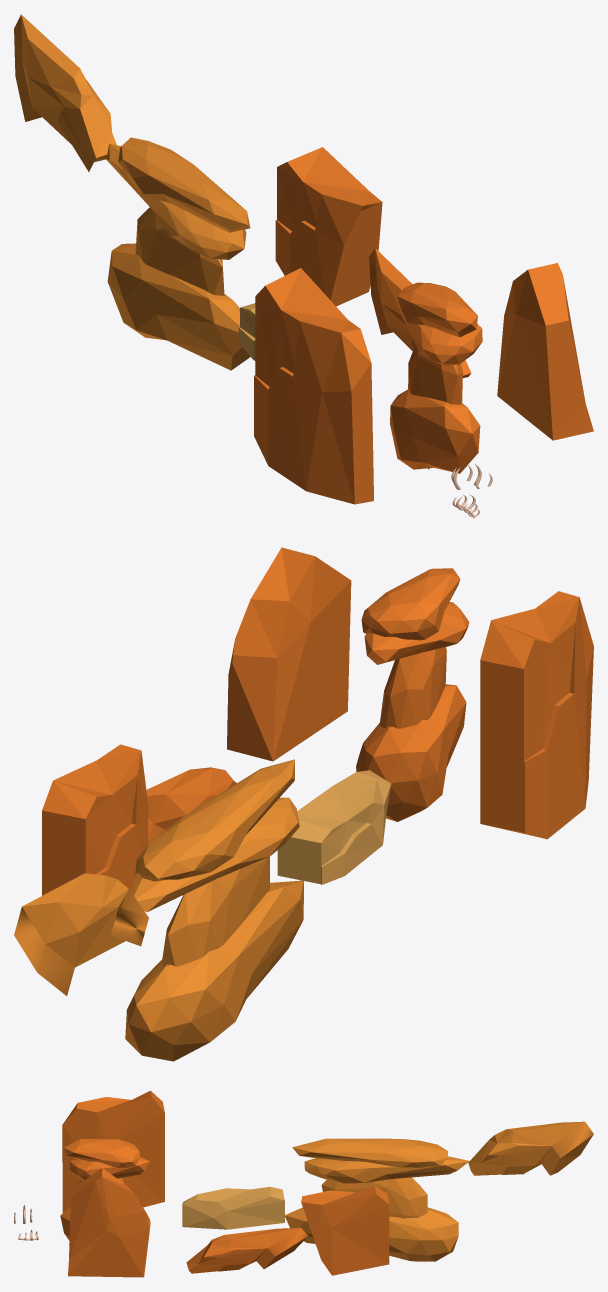
File: muros y paredes rocas y caminos  .fbx
3 views of the same model, one above another, from view 1: azimuth 30°, elevation 25°; view 2: azimuth 150°, elevation 25°; view 3: azimuth 270°, elevation 25° (orthographic). The views are drawn at different scales.
Visible parts, largest first — view 1: Rocas.002, piedra grande.001, piedra grande, Rocas.005, Rocas.003, Rocas.006, Rocas.008, Rocas.001; view 2: piedra grande.001, Rocas.002, Rocas.003, piedra grande, Rocas.005, Rocas.006, Rocas.001, Rocas.008; view 3: piedra grande.001, Rocas.003, Rocas.002, Rocas.005, Rocas.006, Rocas.001, Rocas.008, piedra grande.
Boxes of the visible parts, x1,y1,x2,y2 form: Rocas.002: (254,268,373,504); piedra grande.001: (106,137,250,370); piedra grande: (390,282,482,473); Rocas.005: (275,147,382,306); Rocas.003: (497,263,593,440); Rocas.006: (14,14,116,171); Rocas.008: (369,248,471,378); Rocas.001: (238,303,255,360); piedra grande.001: (125,759,303,1061); Rocas.002: (480,591,593,839); Rocas.003: (227,547,351,761); piedra grande: (356,568,469,821); Rocas.005: (42,744,148,895); Rocas.006: (14,873,148,995); Rocas.001: (277,770,391,884); Rocas.008: (146,767,236,844); piedra grande.001: (285,1138,469,1261); Rocas.003: (68,1168,150,1277); Rocas.002: (62,1090,164,1212); Rocas.005: (301,1186,389,1275); Rocas.006: (468,1121,593,1175); Rocas.001: (182,1186,284,1229); Rocas.008: (186,1227,307,1273); piedra grande: (60,1138,149,1240).
Size of the model in its own units: 2600 by 2114 by 7545.
